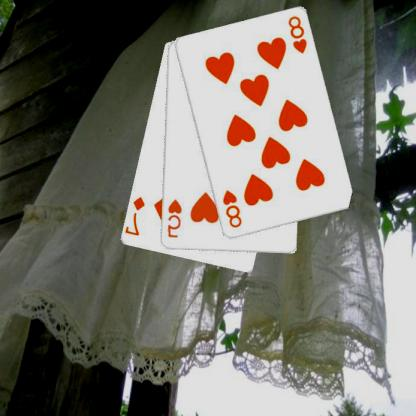5H: (166, 197, 184, 240)
7D: (126, 194, 148, 238)
8H: (221, 188, 245, 230), (287, 13, 310, 55)
